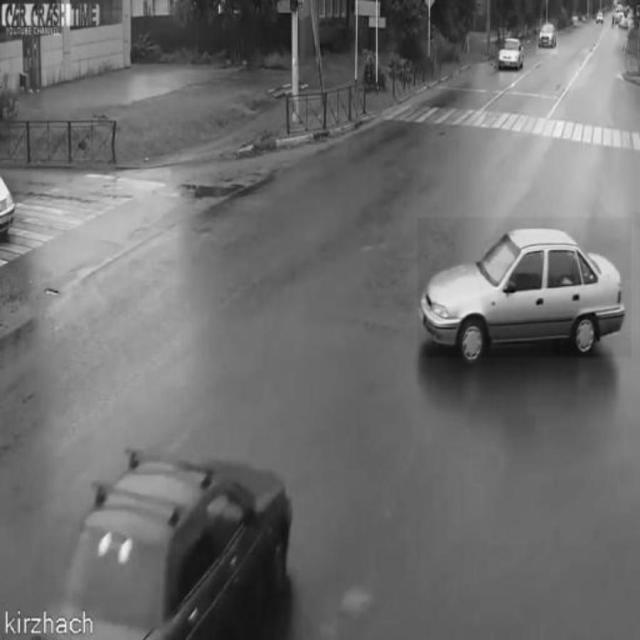vehicle: (417, 218, 631, 358), (496, 31, 523, 73), (537, 19, 557, 54)
